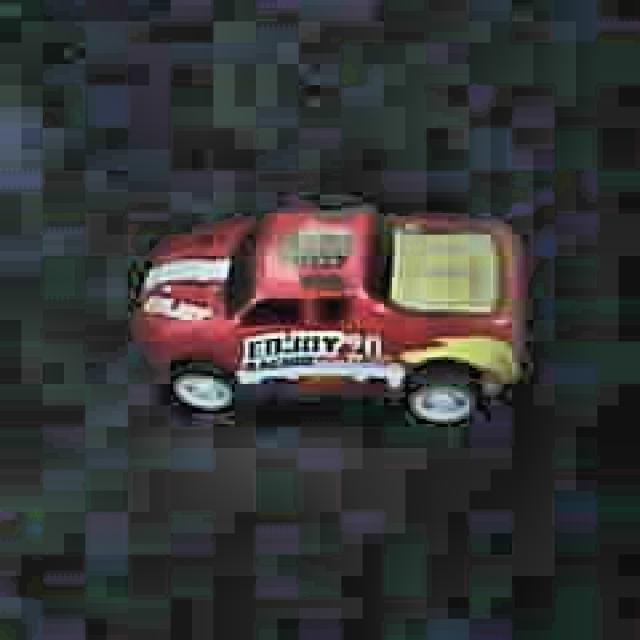car: (122, 197, 525, 440)
